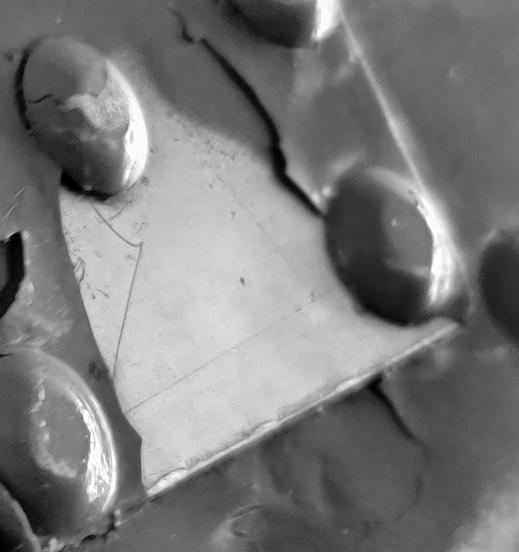paint-off: (1, 1, 519, 552)
